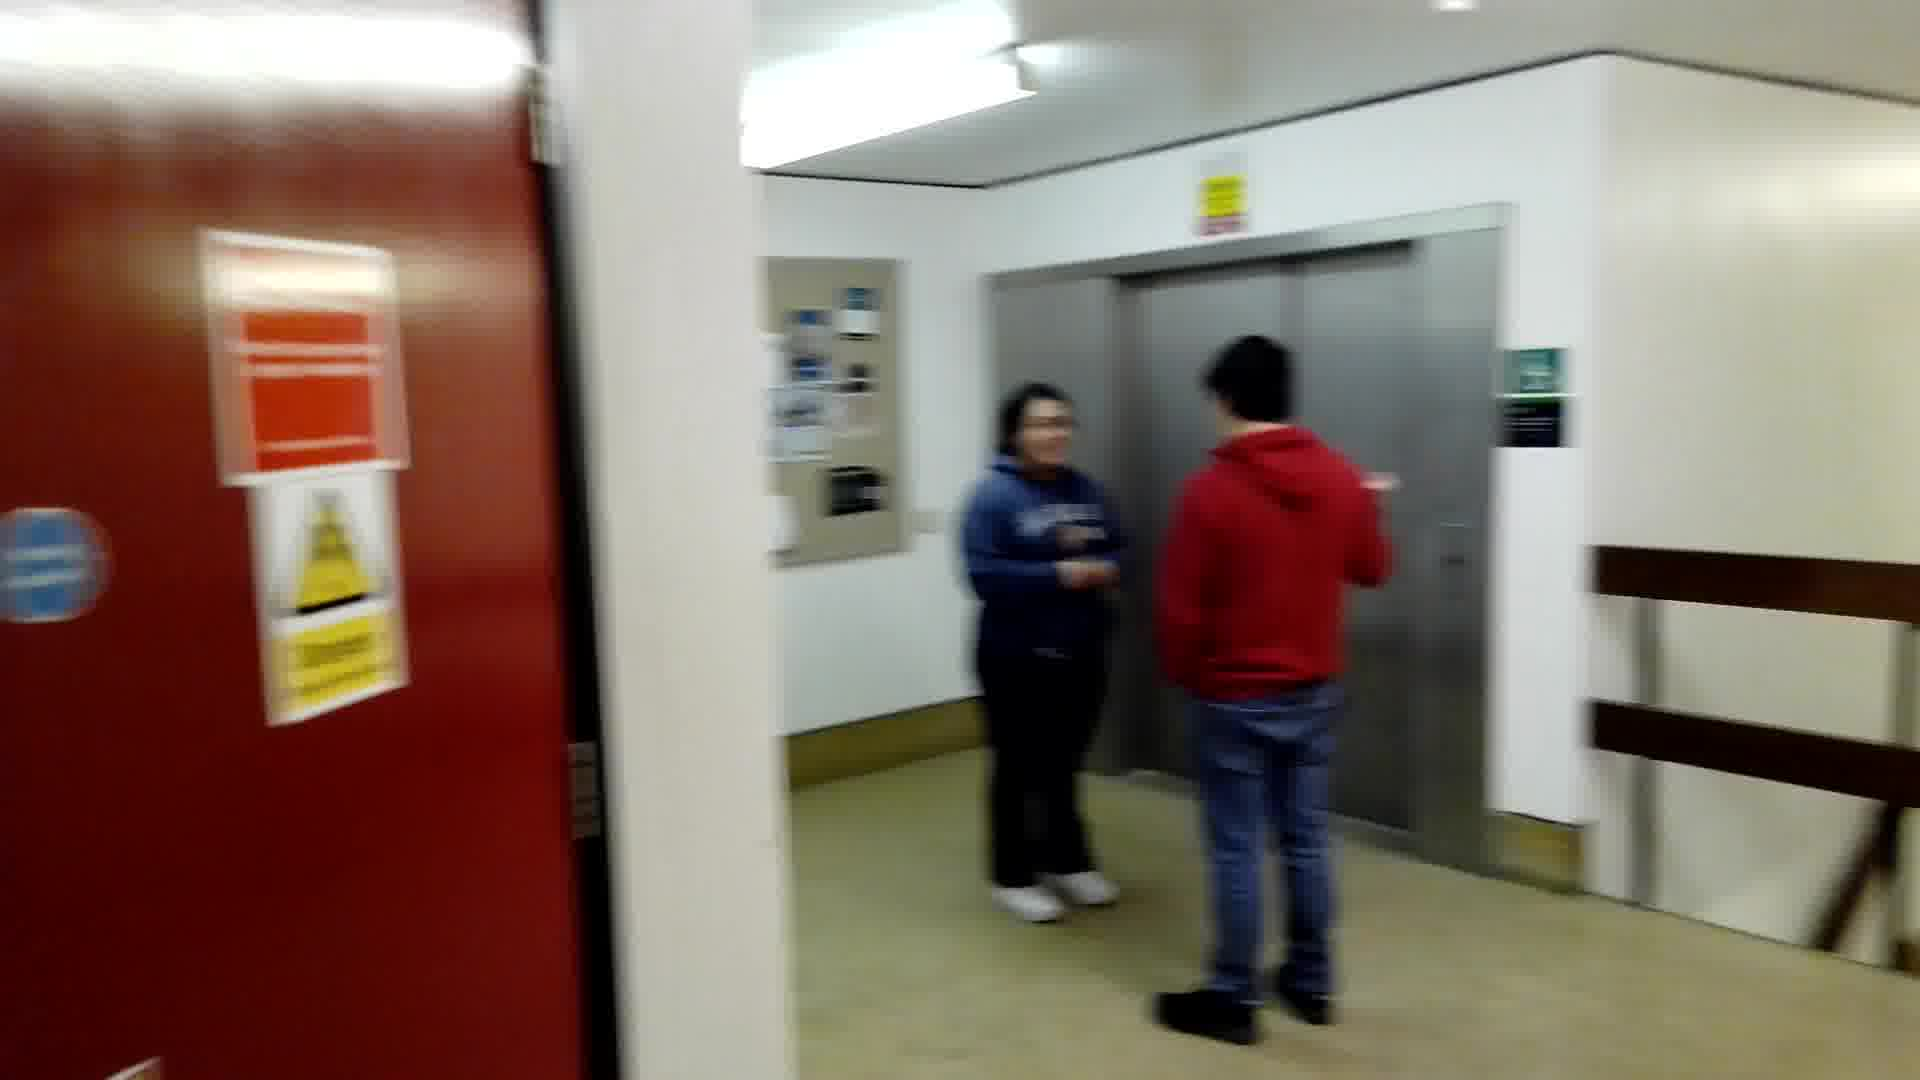Person: (1138, 336, 1389, 1035), (954, 377, 1128, 917)
